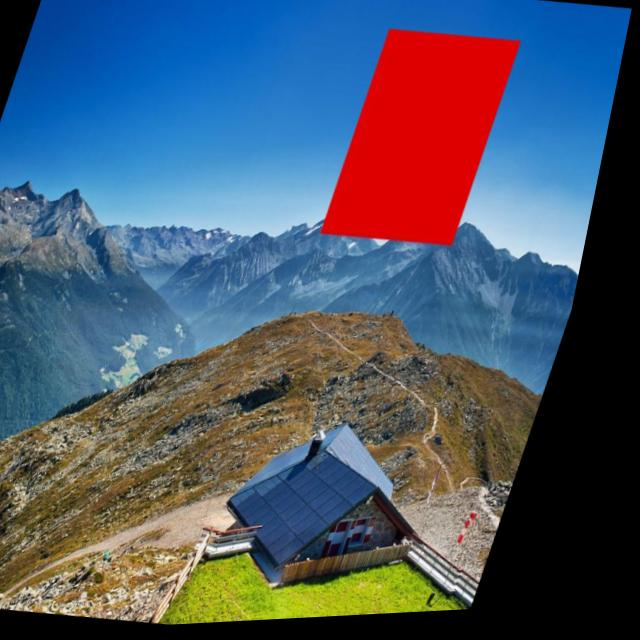RedSquare: (319, 19, 536, 266)
